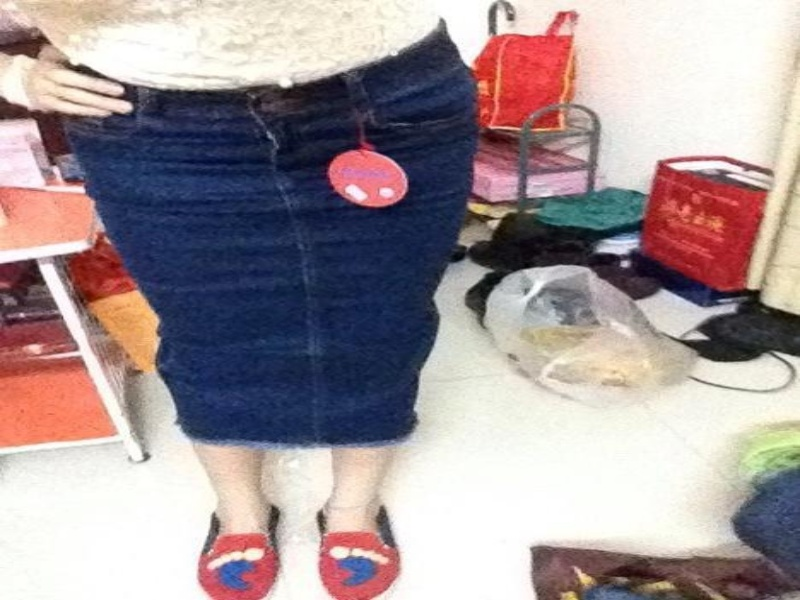long_sleeved_shirt: (0, 0, 448, 113)
skirt: (58, 16, 482, 453)
